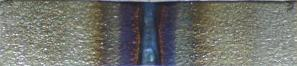soldas: (93, 1, 198, 66)
